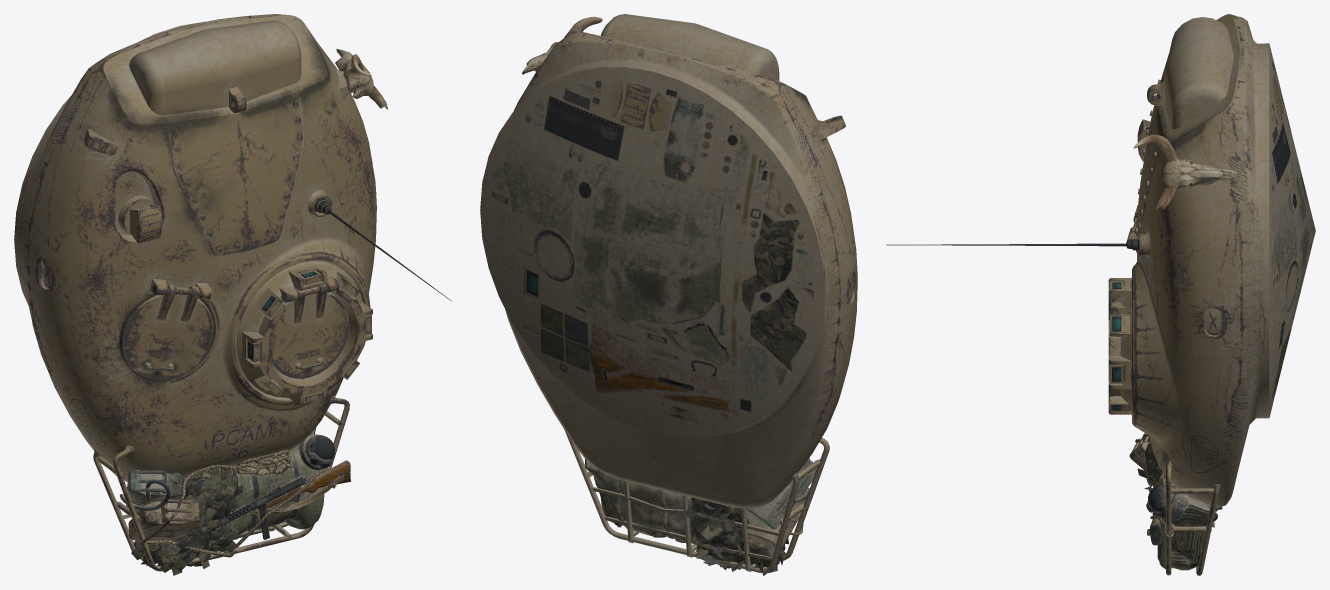
The model's file is Turret_01.glb.
The picture shows the model from 3 angles, left to right: view 1: azimuth 30°, elevation 25°; view 2: azimuth 150°, elevation 25°; view 3: azimuth 270°, elevation 25°; orthographic projection. The views are drawn at different scales.
Parts seen in each view (by area): view 1: set_0_group_0; view 2: set_0_group_0; view 3: set_0_group_0.
Boxes of the visible parts, x1,y1,x2,y2 form: set_0_group_0: (14,14,451,575); set_0_group_0: (480,14,857,575); set_0_group_0: (886,14,1315,575).
Size of the model in its own units: 2.39 by 3.59 by 2.73.
Materials: 1 (1 with a texture image).
